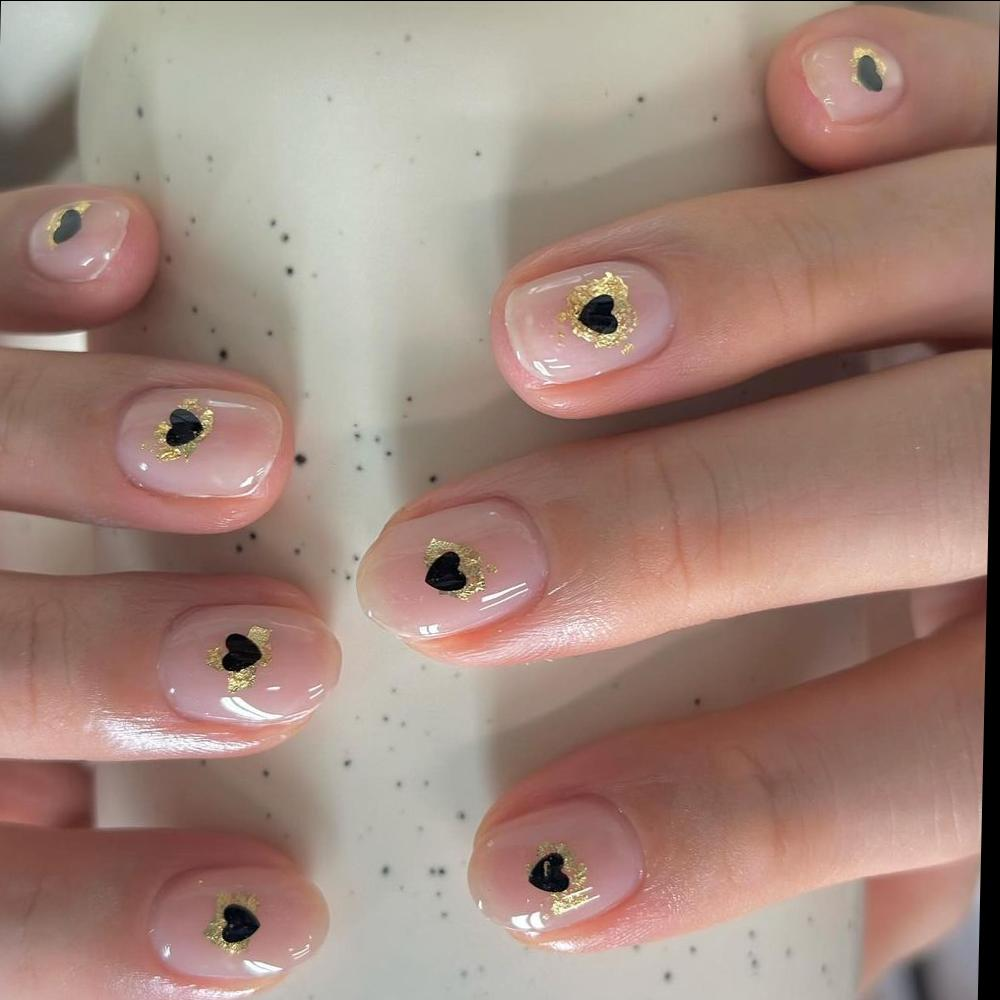nail: (354, 495, 552, 643), (465, 793, 647, 939), (155, 602, 344, 730), (144, 862, 332, 984), (502, 258, 677, 388), (113, 385, 284, 502), (800, 34, 907, 128), (25, 197, 131, 285)
